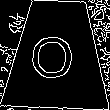O_N: (34, 28, 80, 81)
